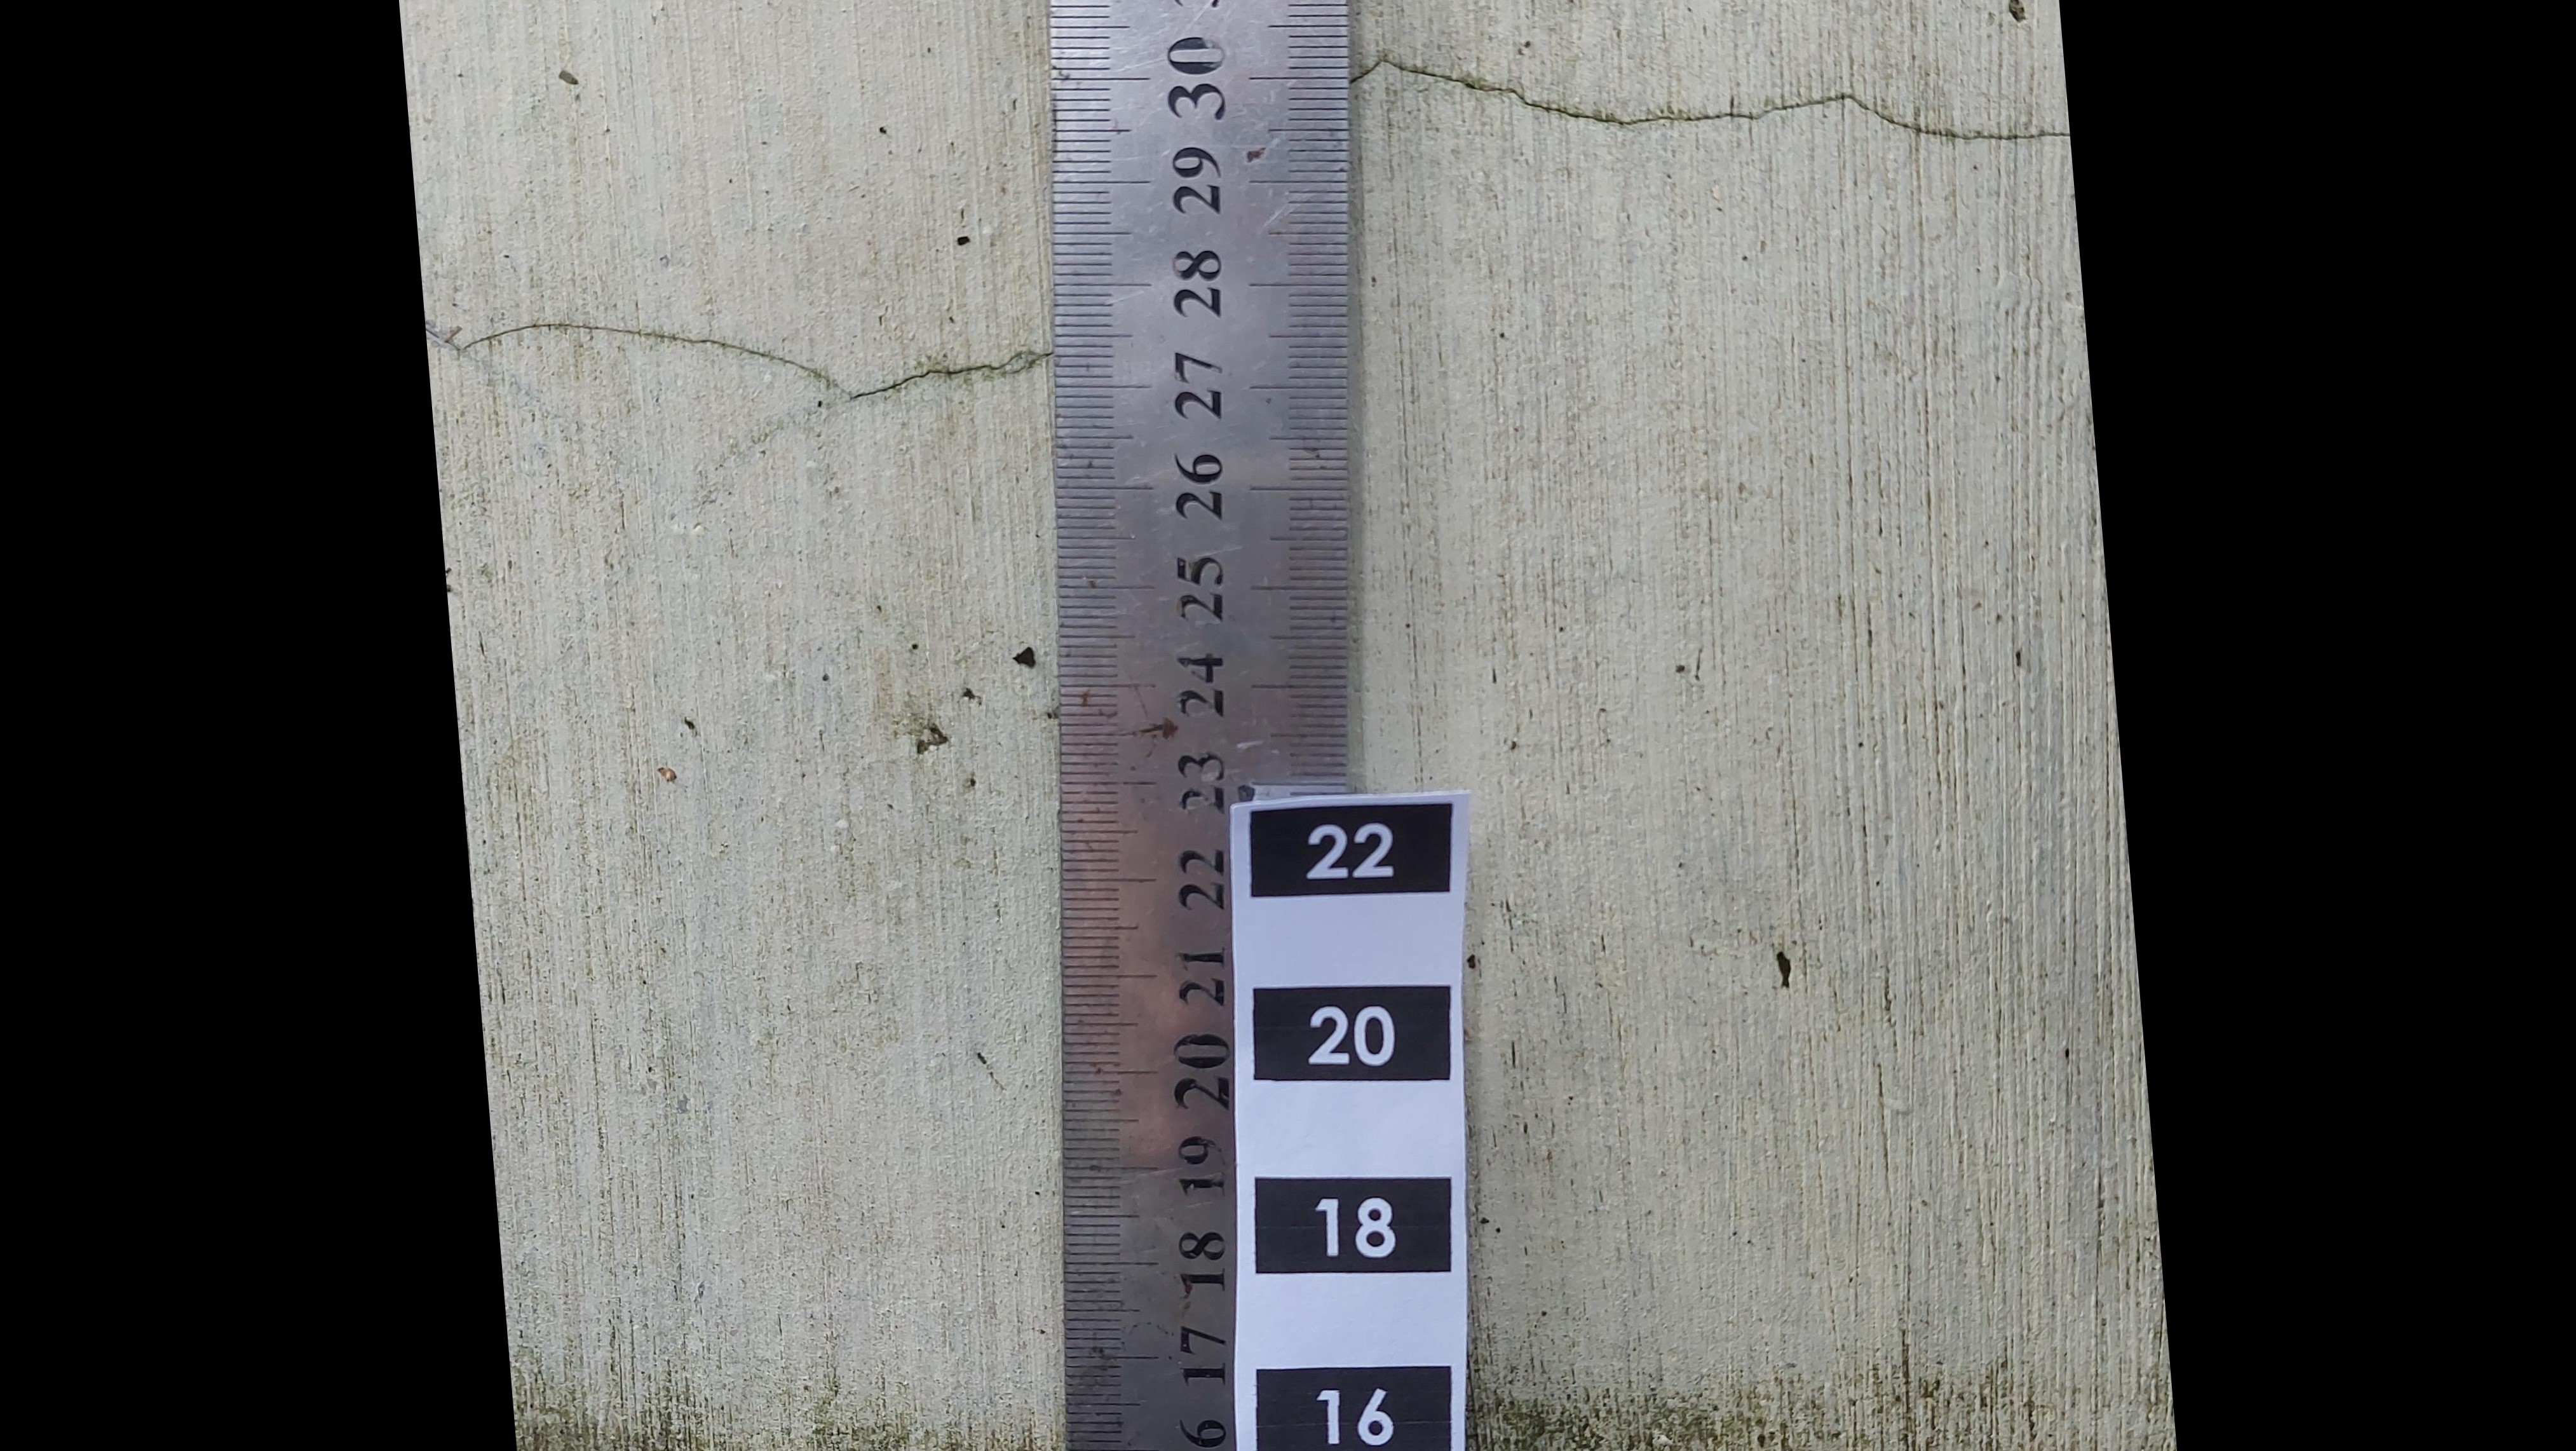kotak_2x1: (1253, 986, 1451, 1081), (1253, 1178, 1451, 1274), (1251, 803, 1445, 894)
